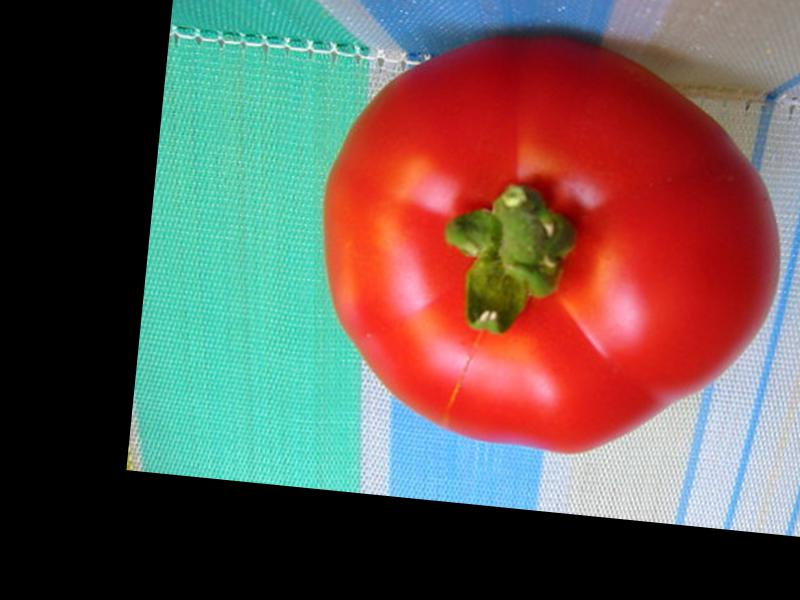Tomato: (302, 13, 796, 472)
